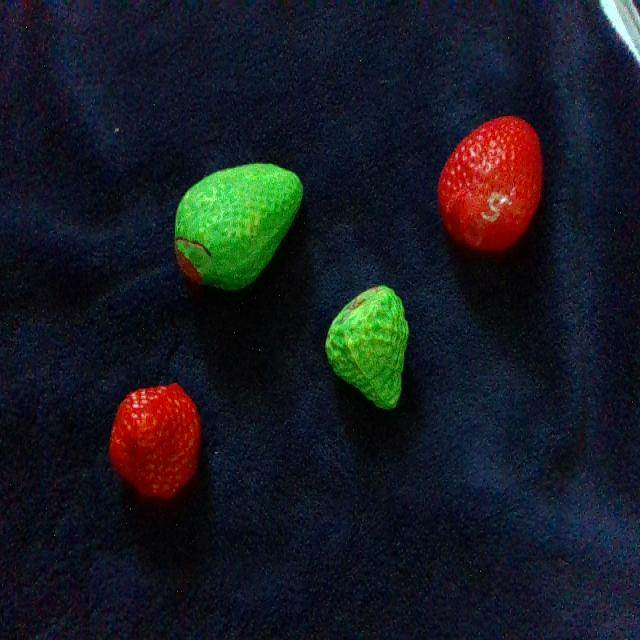chica_roja: (109, 384, 200, 499)
grande_roja: (438, 119, 542, 249)
verde: (175, 164, 302, 289), (325, 285, 408, 408)
